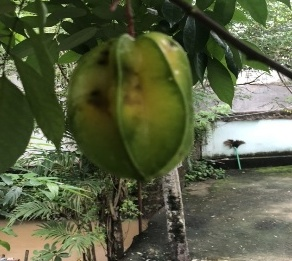Khe: (67, 31, 200, 187)
